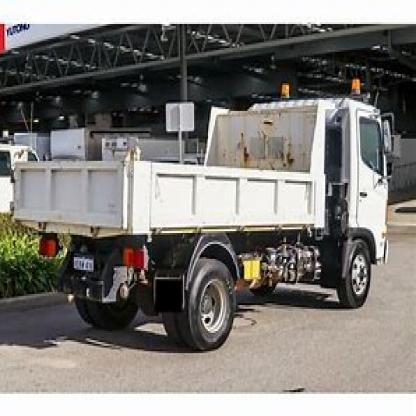dump_truck: (18, 74, 401, 377)
